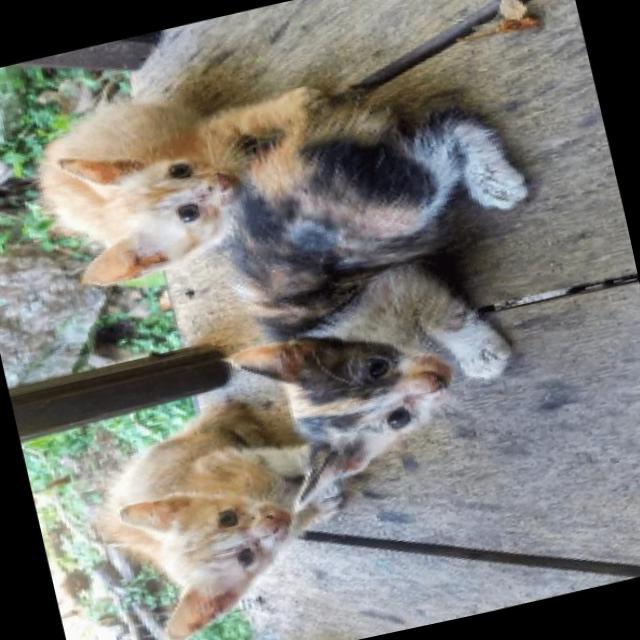Mange: (434, 302, 472, 331), (124, 244, 154, 271), (397, 383, 422, 407), (250, 536, 263, 554), (184, 618, 200, 632), (236, 503, 250, 517), (206, 608, 216, 618)
